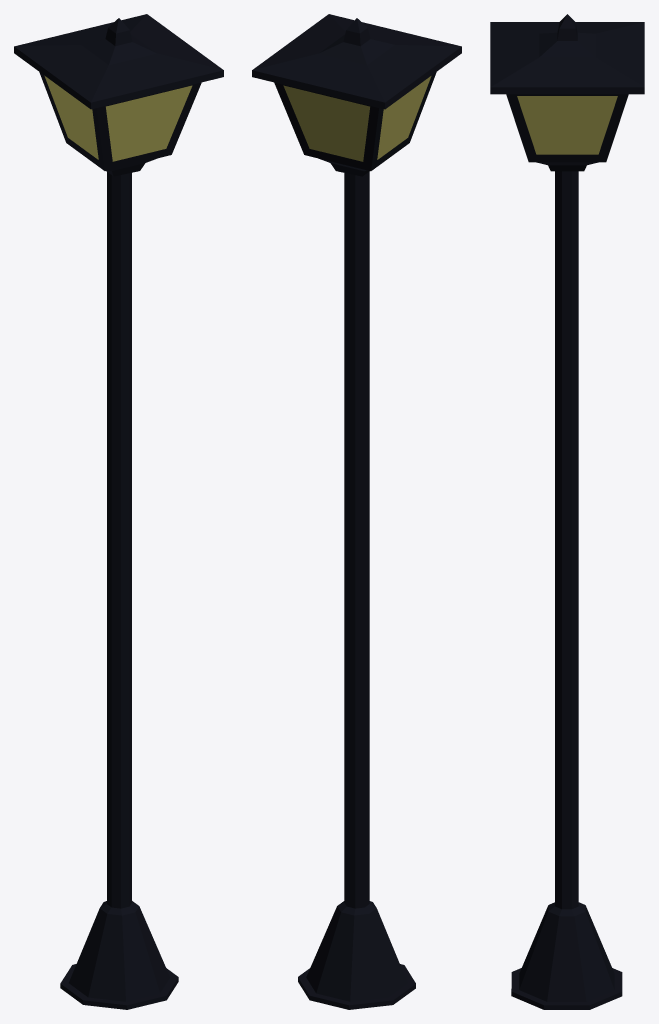
File: StreetLight.fbx
3 views of the same model, side by side, from view 1: azimuth 30°, elevation 25°; view 2: azimuth 150°, elevation 25°; view 3: azimuth 270°, elevation 25° (orthographic).
Parts seen in each view (by area): view 1: Light; view 2: Light; view 3: Light.
Boxes of the visible parts, x1,y1,x2,y2 form: Light: (14, 14, 223, 1009); Light: (252, 14, 461, 1009); Light: (490, 14, 644, 1009).
Size of the model in its own units: 99.54 by 692 by 99.54.
